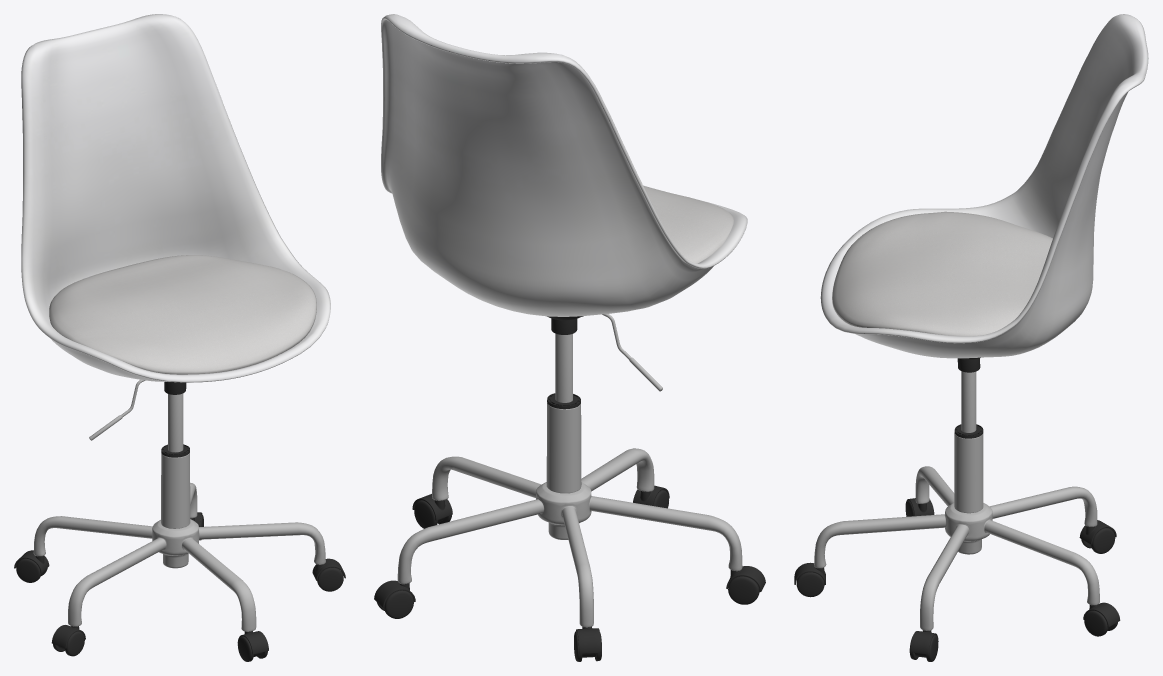
The model's file is abo_B07TJVTZRF.glb.
3 renders of one model, left to right at view 1: azimuth 30°, elevation 25°; view 2: azimuth 150°, elevation 25°; view 3: azimuth 270°, elevation 25°, orthographic. The views are drawn at different scales.
Visible parts, largest first — view 1: B07TJVTZRF; view 2: B07TJVTZRF; view 3: B07TJVTZRF.
Boxes of the visible parts, box(x1,y1,x2,y2) form: B07TJVTZRF: box(14, 14, 345, 661); B07TJVTZRF: box(374, 14, 765, 661); B07TJVTZRF: box(794, 14, 1148, 661).
Bounding box in the file's own units: 0.55 × 0.93 × 0.55.
Materials: 1 (1 with a texture image).
